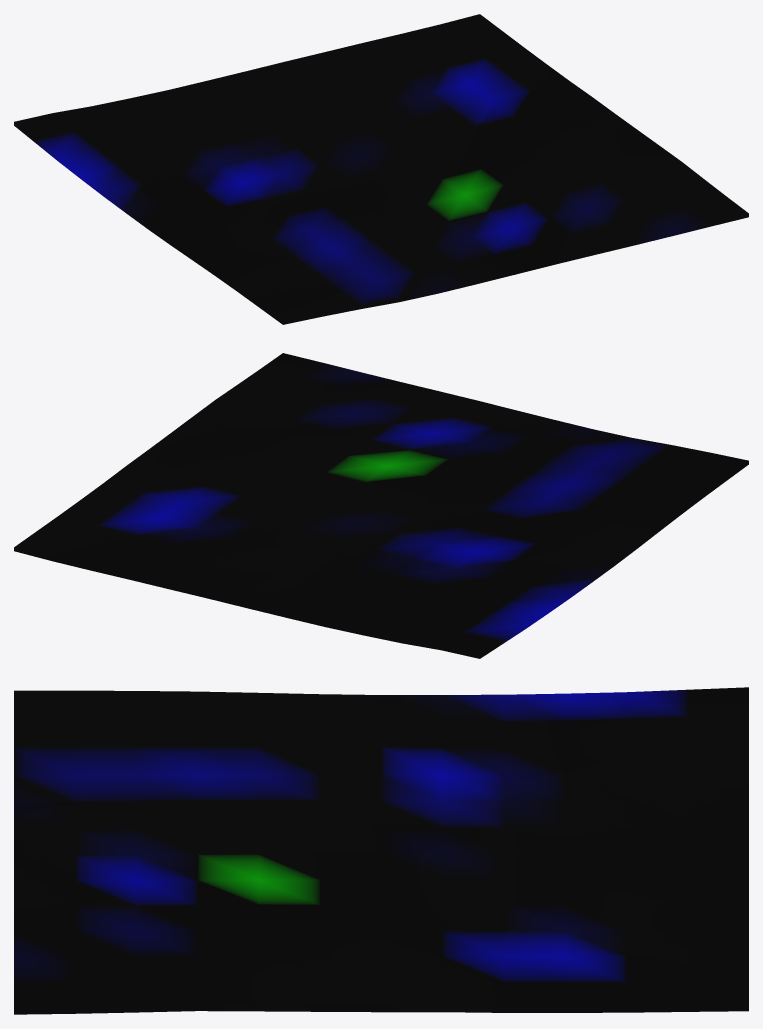
File: coast_1_6.glb
3 renders of one model, top to bottom at view 1: azimuth 30°, elevation 25°; view 2: azimuth 150°, elevation 25°; view 3: azimuth 270°, elevation 25°, orthographic. The views are drawn at different scales.
Parts seen in each view (by area): view 1: terrain; view 2: terrain; view 3: terrain.
Boxes of the visible parts, <box> form: terrain: <box>14,14,748,324</box>; terrain: <box>14,353,748,658</box>; terrain: <box>14,687,748,1014</box>.
Bounding box in the file's own units: 192 × 5.06 × 192.
